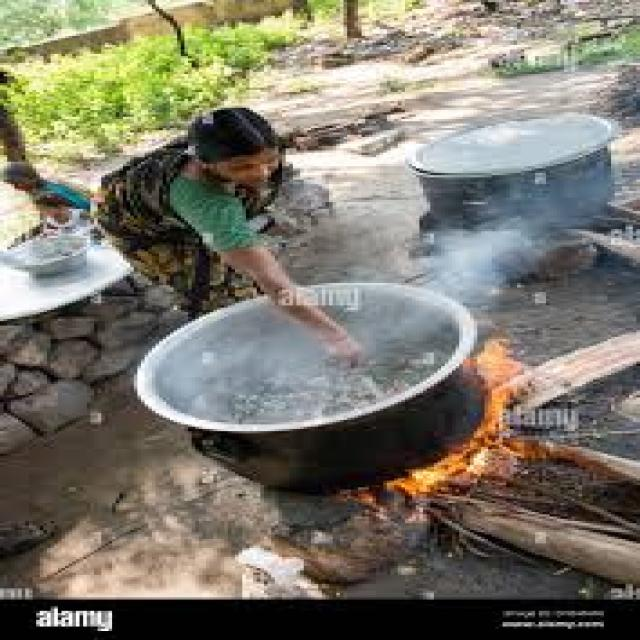fire: (462, 336, 522, 390), (462, 444, 518, 488), (383, 469, 446, 499), (426, 453, 470, 486), (483, 386, 522, 420)
